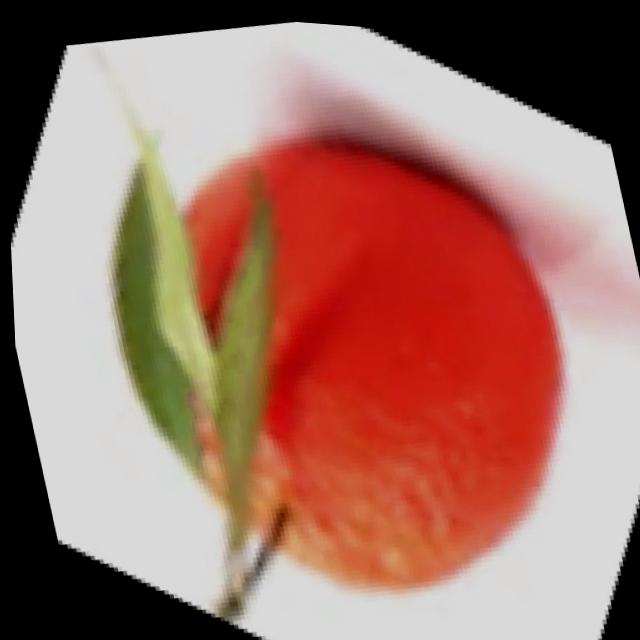Apple: (81, 83, 609, 640)
